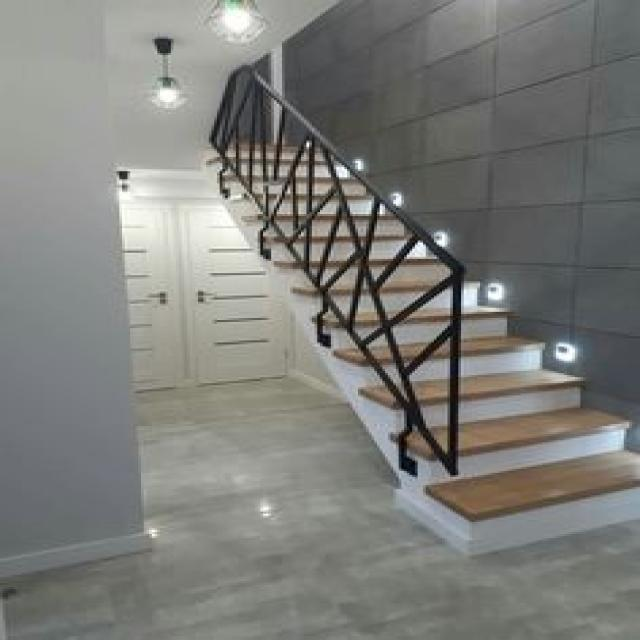stairs: (208, 135, 638, 554)
